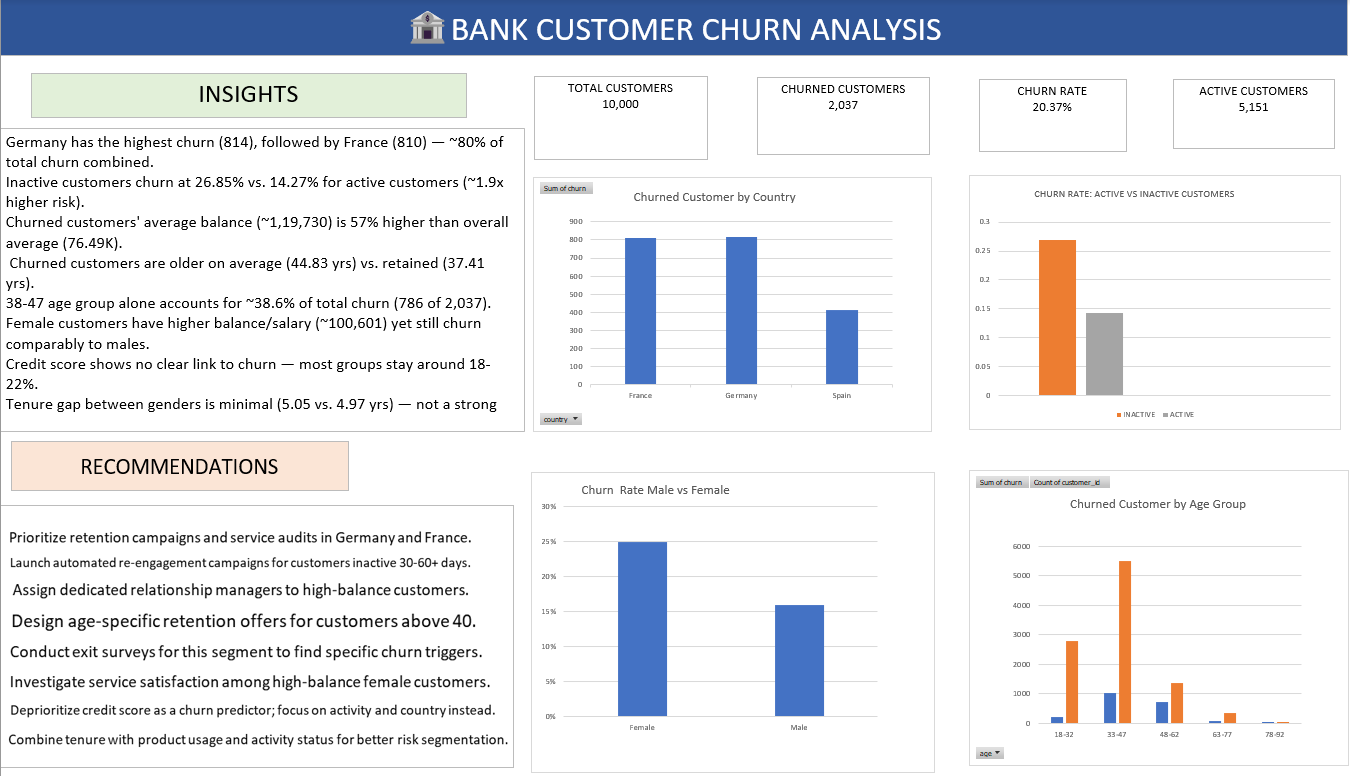

Layout of this report page (visuals, bound fields, positions):
{"tool":"powerbi","page":{"name":"Insights & Recommendations","canvas":[1280,720],"ordinal":2},"visuals":[{"type":"textbox","box":[0,0,1280.8,131.2],"z":0},{"type":"textbox","box":[0,205.6,153.8,113.3],"z":1000},{"type":"textbox","box":[19.4,200.8,372.4,74.5],"z":2000},{"type":"textbox","box":[497.1,200.8,362.7,93.9],"z":3000},{"type":"textbox","box":[19.4,306,372.4,150.6],"z":4000},{"type":"textbox","box":[497.1,314.1,362.7,136],"z":5000},{"type":"pageNavigator","box":[153.8,116.6,600.7,68],"z":6000}]}

Visuals, with their boxes in screenshot pixels (x1, y1, x2, y2), scaled from the page's 1280x720 canvas onto the 1350x776 screenshot:
textbox: box=[0, 0, 1349, 141]
textbox: box=[0, 222, 162, 344]
textbox: box=[20, 216, 413, 297]
textbox: box=[524, 216, 907, 318]
textbox: box=[20, 330, 413, 492]
textbox: box=[524, 339, 907, 485]
pageNavigator: box=[162, 126, 796, 199]
